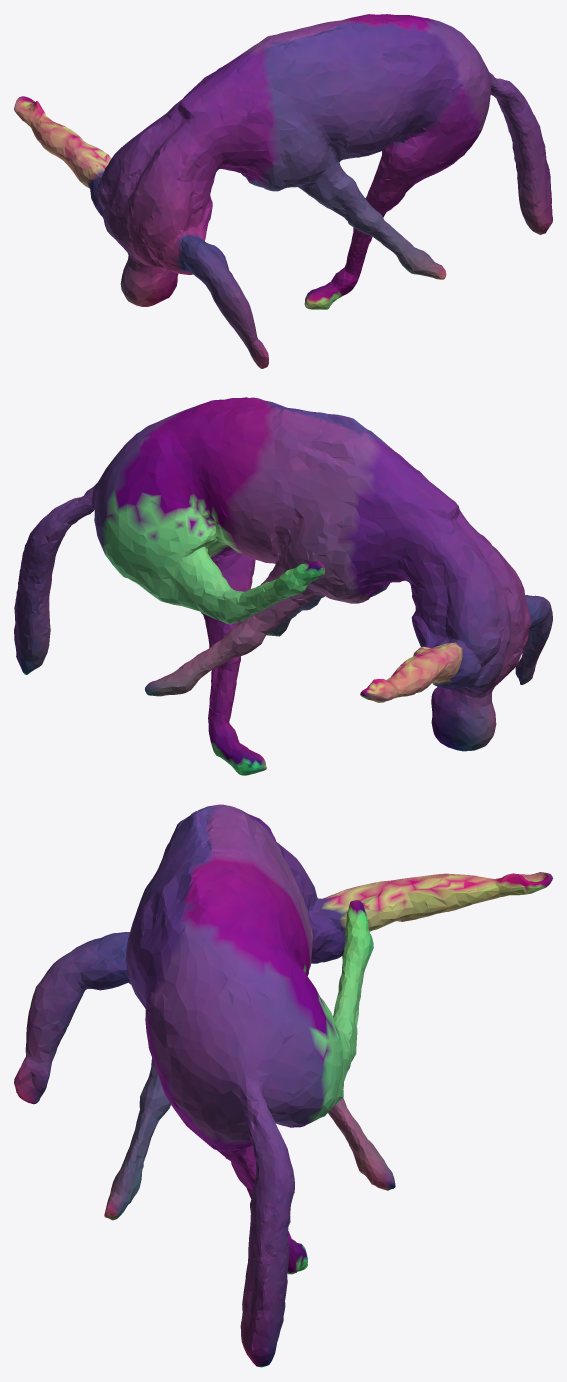
Rendered from centaur-2.off.obj.
The picture shows the model from 3 angles, top to bottom: view 1: azimuth 30°, elevation 25°; view 2: azimuth 150°, elevation 25°; view 3: azimuth 270°, elevation 25°; orthographic projection. The views are drawn at different scales.
Bounding box in the file's own units: 1.37 × 0.9116 × 1.06.
